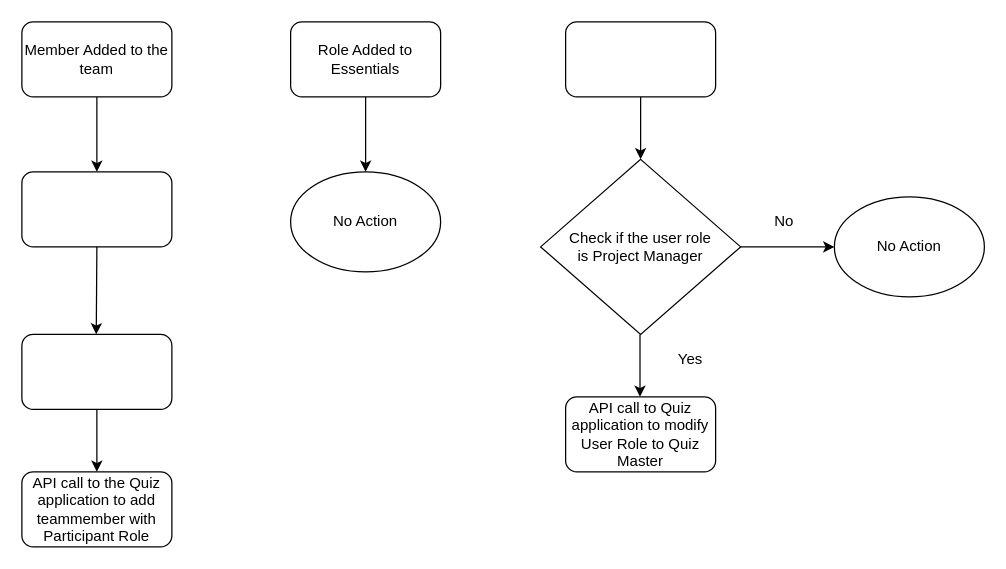
Image size: 1006x569. Some labels were removed from this diagram. Here are the shapes that lost their labels. From the top down, the box of each, then its label:
(564, 21, 716, 97): User Login to People Corner
(21, 171, 172, 247): Teammeber add action is called
(21, 333, 172, 409): Teammember details are stored onto DB
